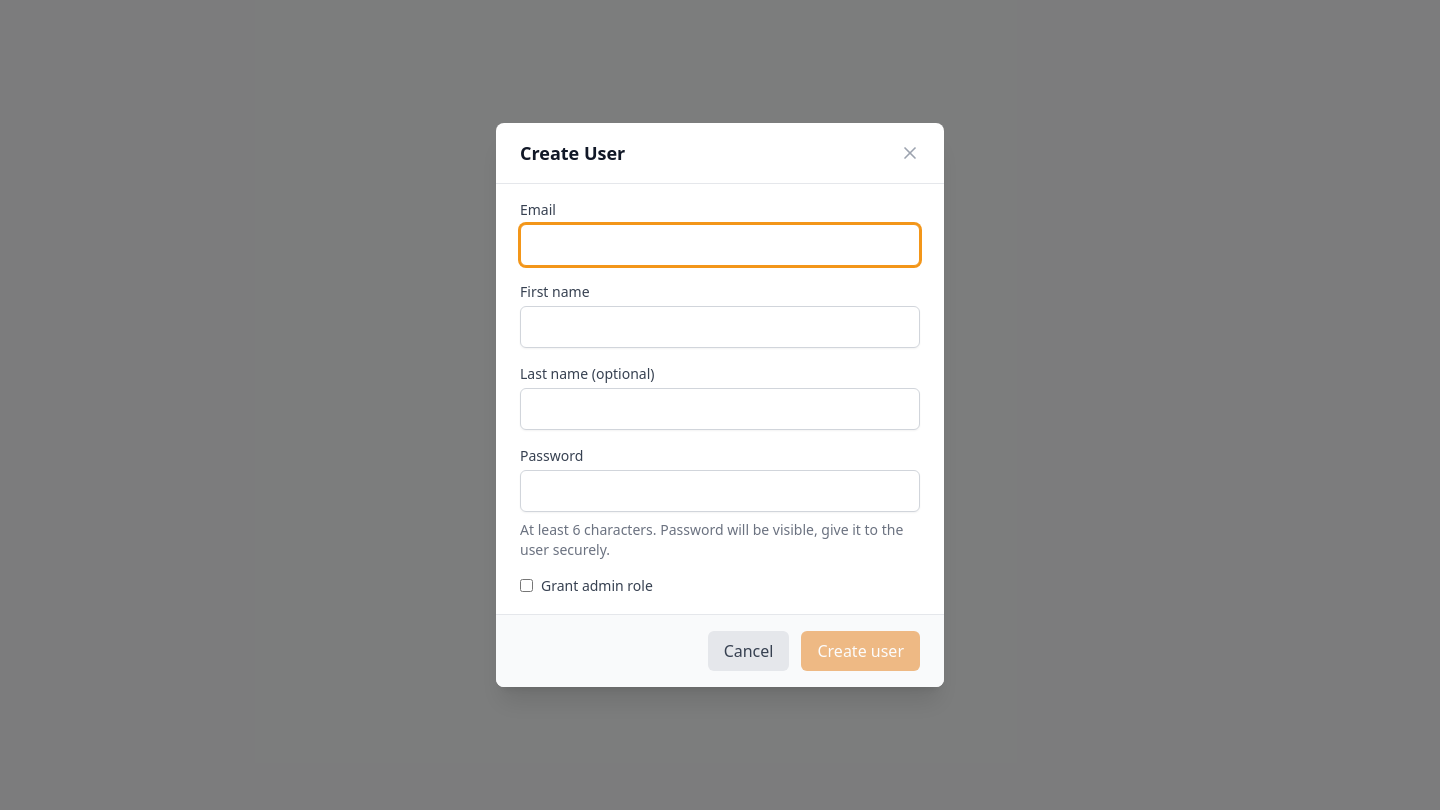
Test: CreateUserModal › turns Save on once the email, first name and a six-character password are in
This screenshot has width=1440, height=810.
Type "test1@icid.local" into the field labelled "Email" at (720, 245), box [520,224,920,266]
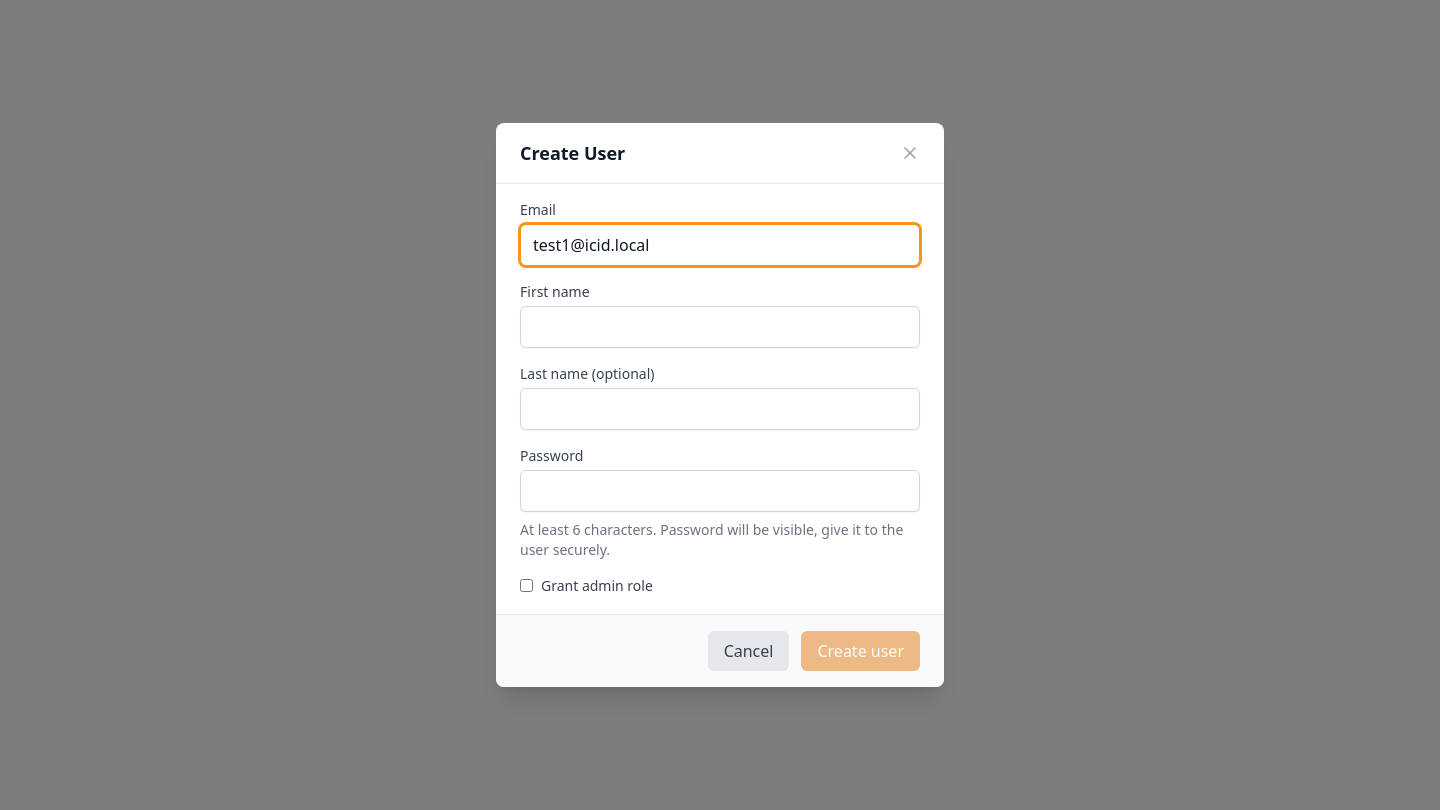
Type "Test" into the field labelled "First name" at (720, 327), box [520,306,920,348]
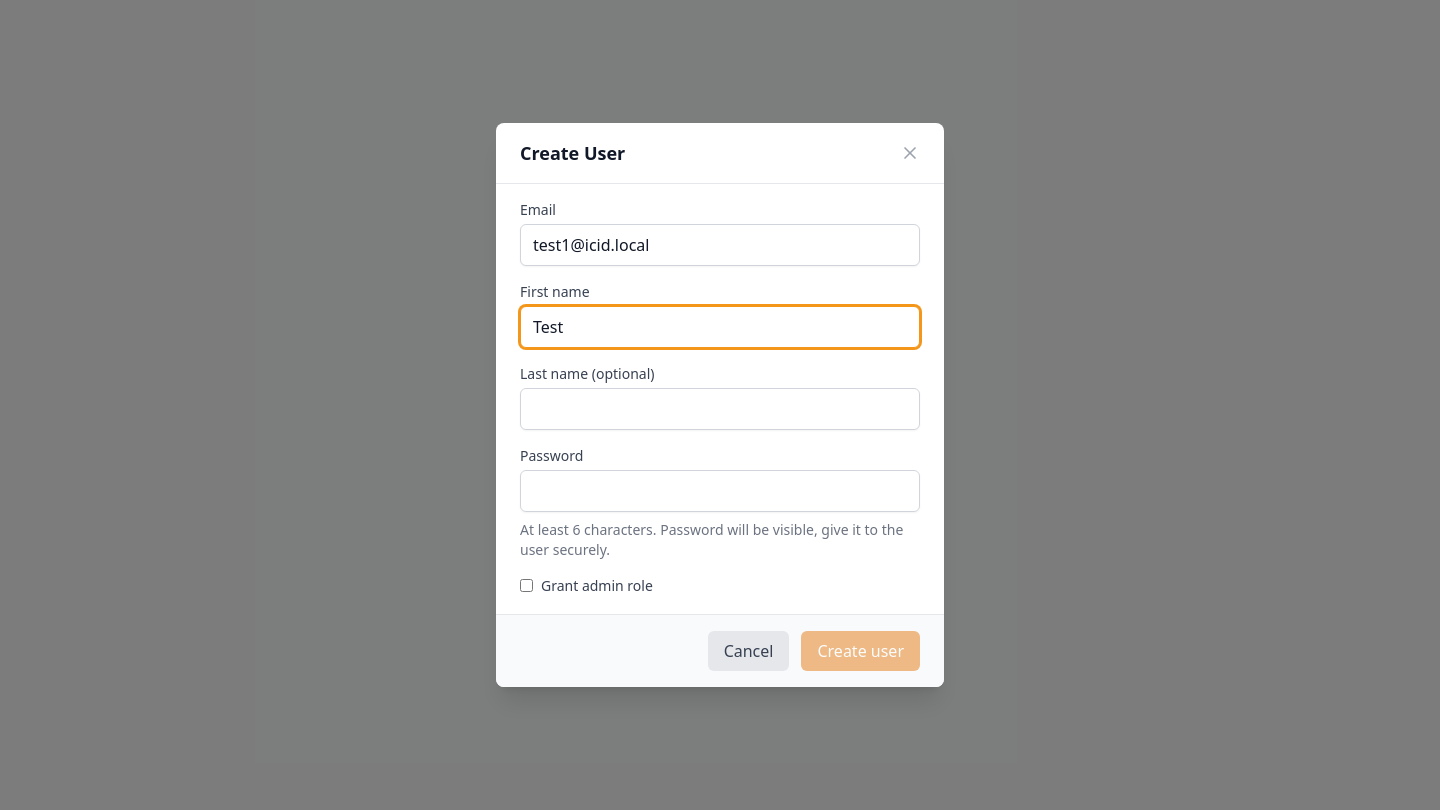
Type "123456" into the field labelled "Password" at (720, 491), box [520,470,920,512]
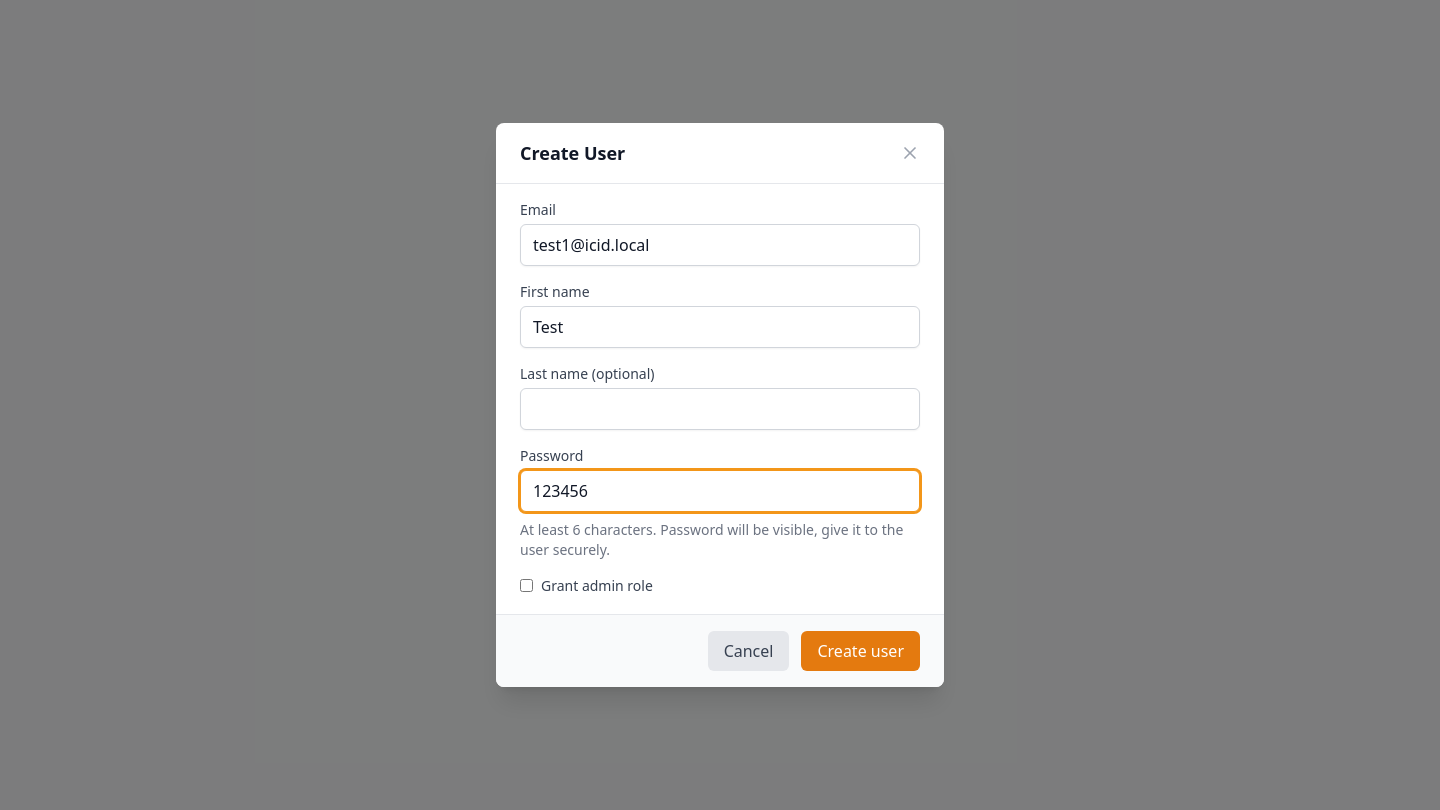
Expected: the button "Create user" is enabled, [802,631,920,671]
